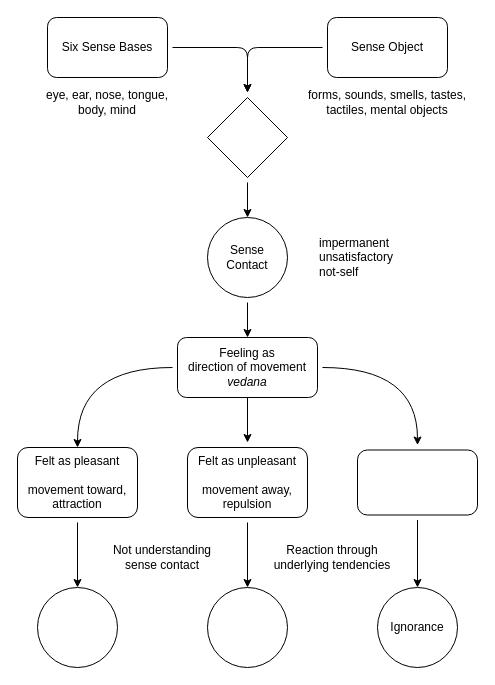
This 495x685 diagram has some shape labels left out. The centre of each missing label's shape, as x and y in pixels:
Attention: pixel 247 137
Felt as neutral unnoticed, dull and gray: pixel 417 482
Hatred: pixel 247 627
Sensual Craving: pixel 77 627
